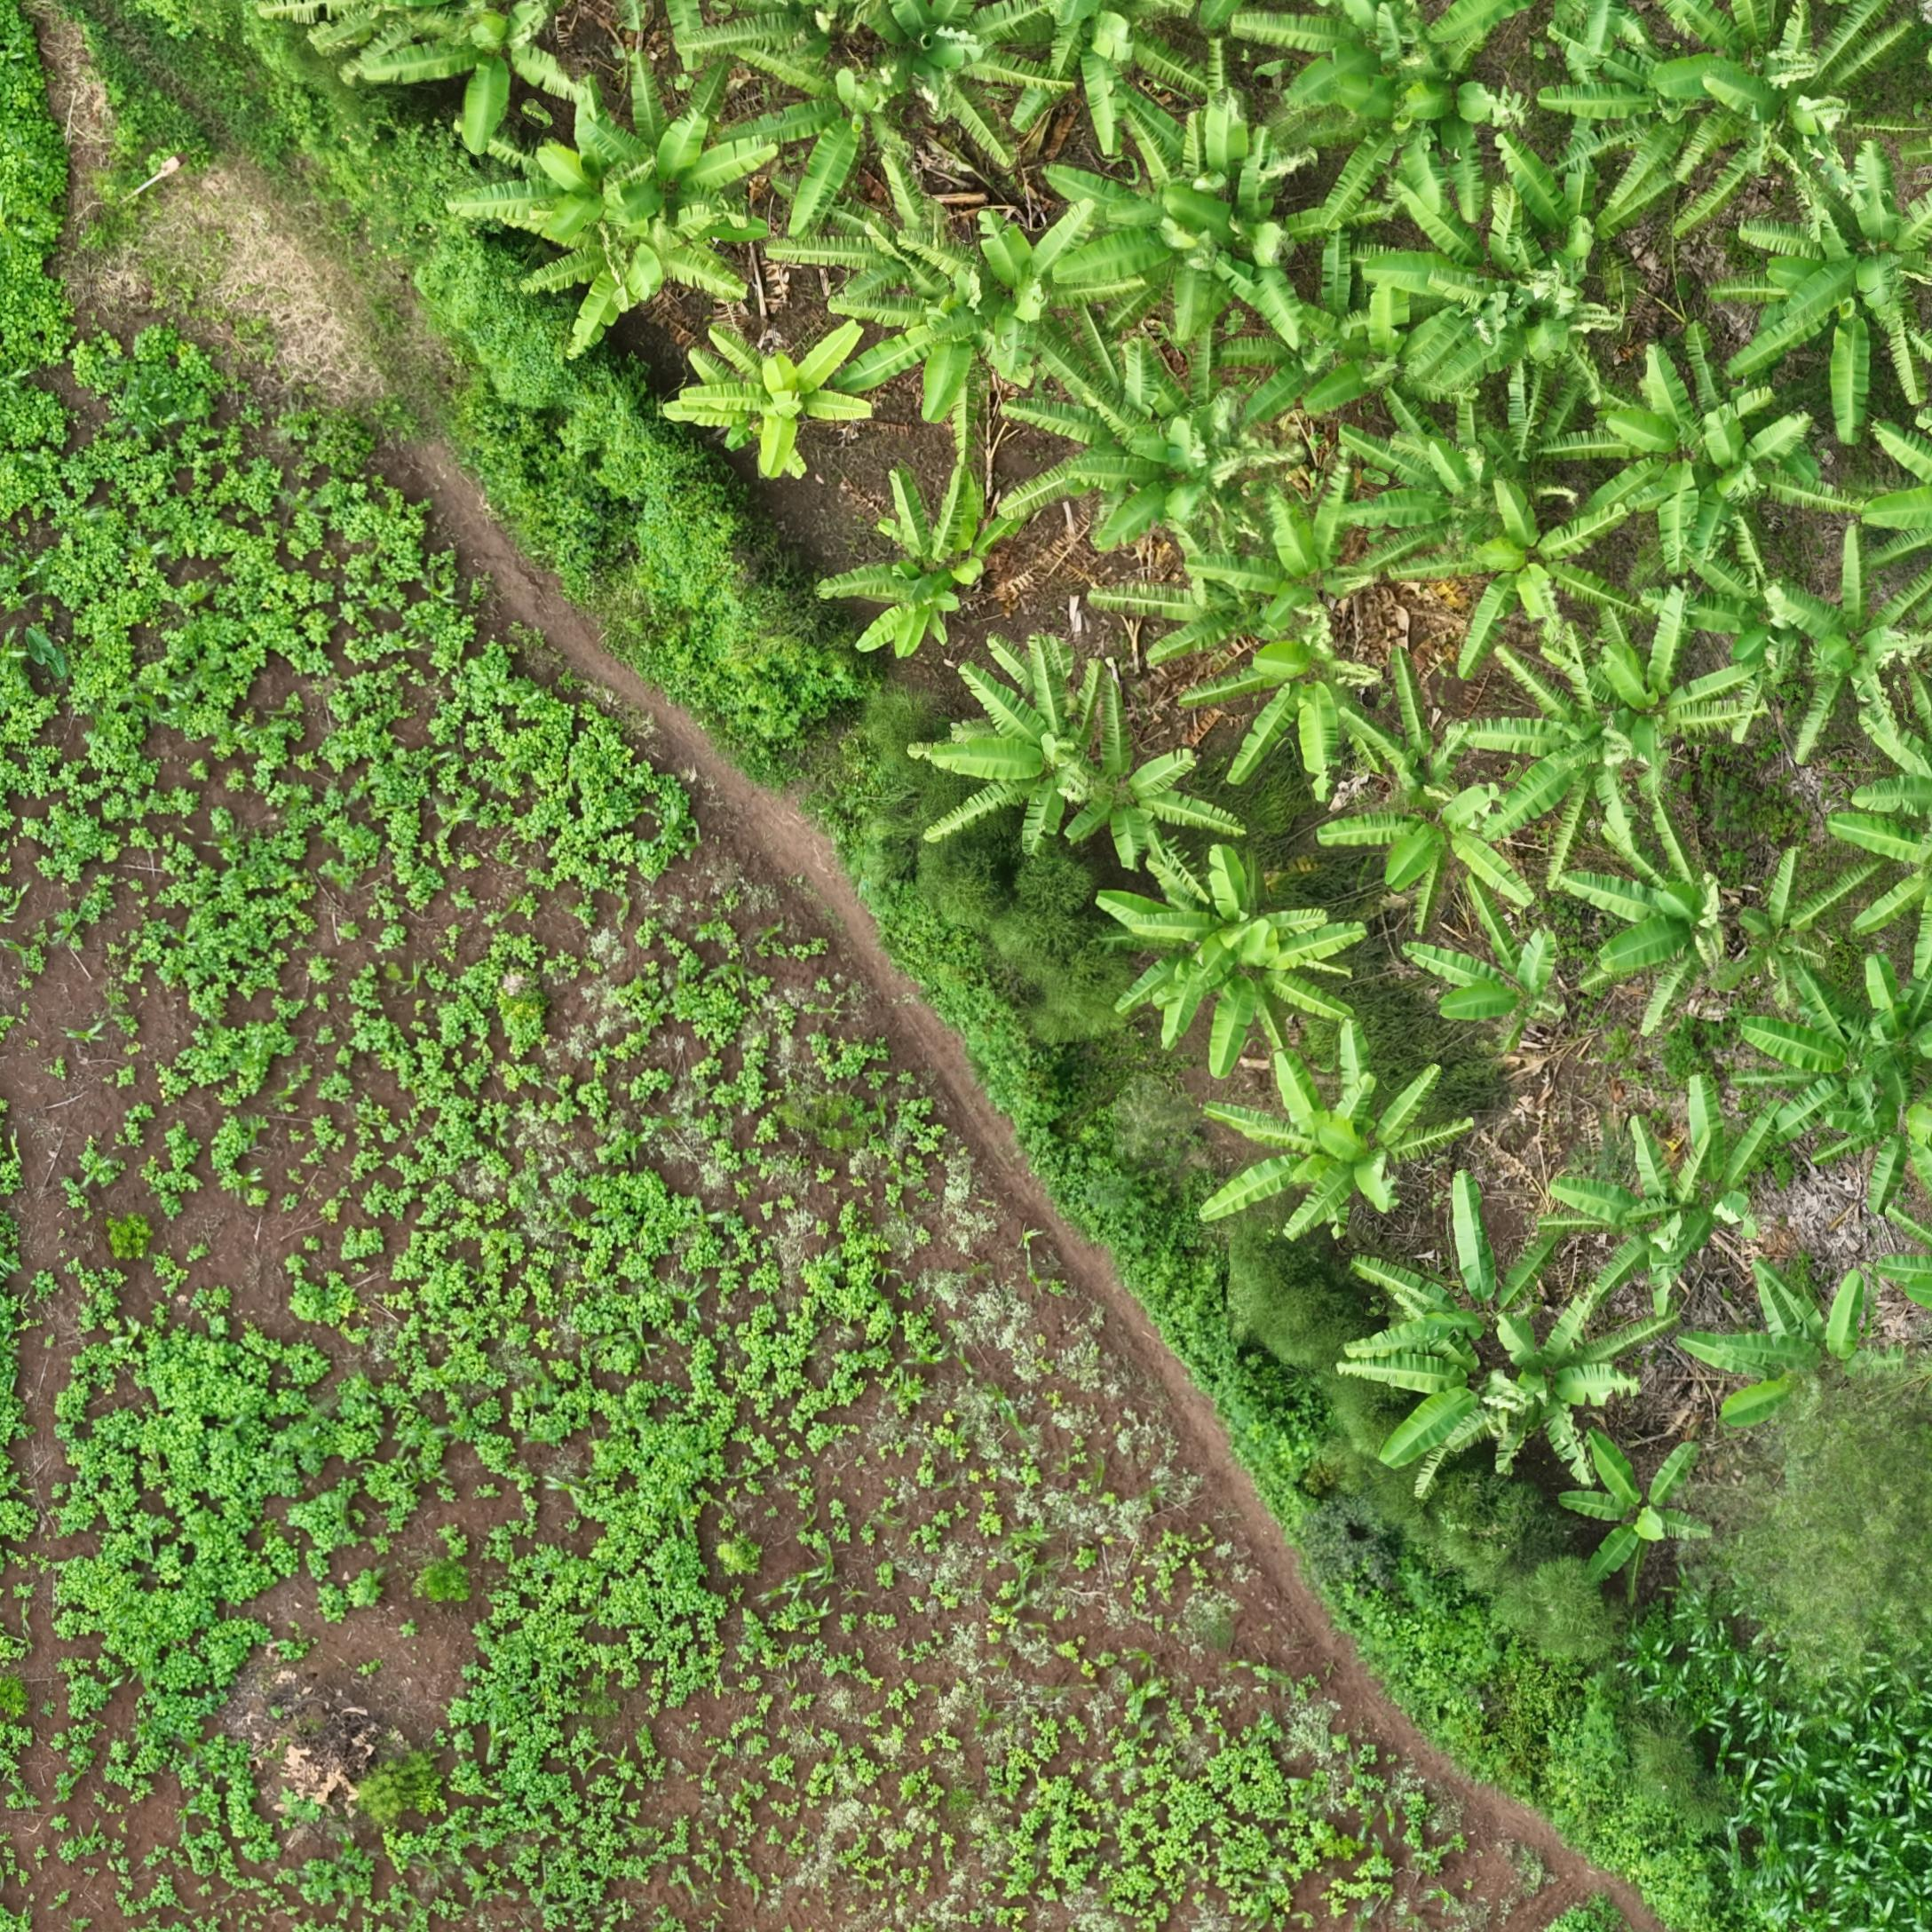Banana: (492, 122, 816, 322), (1088, 393, 1339, 573), (888, 223, 1131, 400), (1458, 184, 1684, 373), (1514, 697, 1732, 886), (1621, 1143, 1842, 1325), (1318, 7, 1599, 147), (1254, 1115, 1495, 1272), (1246, 651, 1458, 823), (892, 19, 1118, 177), (361, 9, 619, 143), (1796, 980, 1932, 1231), (1201, 145, 1350, 366), (1375, 1304, 1638, 1426), (1647, 858, 1833, 1030), (1391, 810, 1596, 964), (1499, 522, 1702, 674), (1769, 1311, 1932, 1495), (1111, 731, 1293, 892), (778, 44, 962, 200), (860, 527, 1037, 688), (1629, 2, 1775, 195), (1120, 886, 1345, 1010), (1667, 674, 1819, 856), (1599, 1506, 1810, 1637), (1514, 1380, 1700, 1525), (994, 674, 1125, 876), (1787, 11, 1932, 191), (1810, 554, 1932, 766), (720, 357, 906, 495), (1769, 405, 1905, 586), (1210, 964, 1405, 1081), (1286, 510, 1444, 651), (1468, 430, 1649, 545), (1097, 4, 1228, 161), (1849, 180, 1932, 409), (1681, 368, 1794, 531), (1491, 975, 1642, 1093), (1177, 577, 1350, 674), (1845, 805, 1932, 978)
